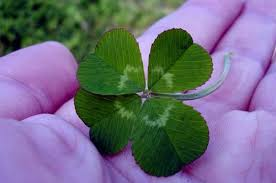4-clover: (74, 27, 215, 177)
